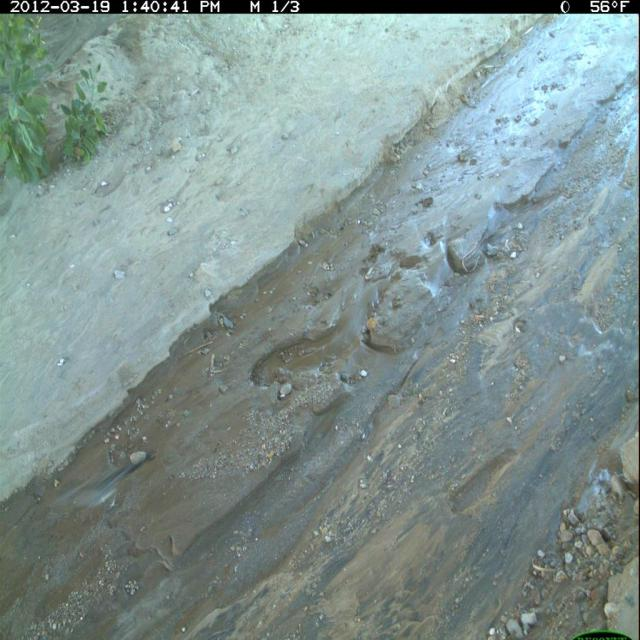bird: (53, 451, 159, 521)
